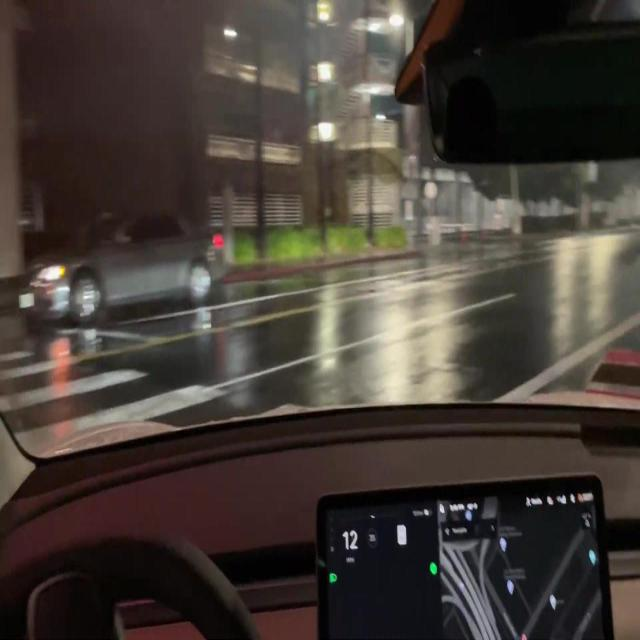Car: (29, 210, 222, 329)
